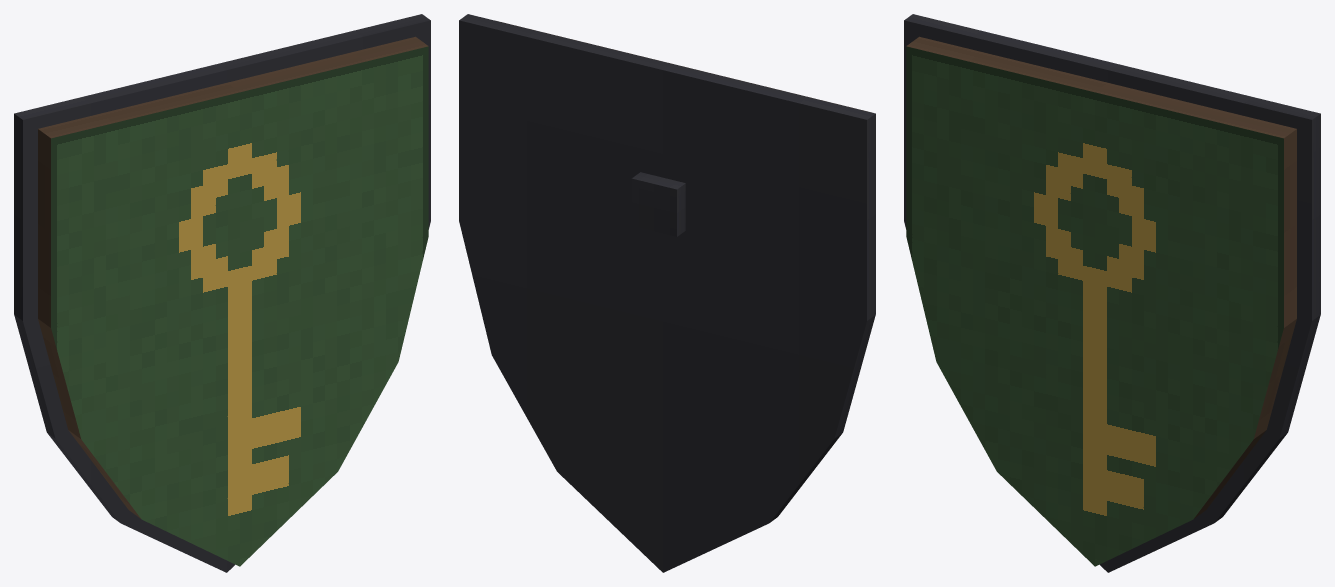
File: crest-shield-c.glb
3 views of the same model, side by side, from view 1: azimuth 30°, elevation 25°; view 2: azimuth 150°, elevation 25°; view 3: azimuth 330°, elevation 25° (orthographic).
Parts seen in each view (by area): view 1: crest-shield-c.001; view 2: crest-shield-c.001; view 3: crest-shield-c.001.
Part boxes in pixels (box(x1,y1,x2,y2)): crest-shield-c.001: box(14, 14, 430, 572); crest-shield-c.001: box(459, 14, 875, 572); crest-shield-c.001: box(904, 14, 1320, 572).
Bounding box in the file's own units: 0.54 × 0.636 × 0.07.
Materials: 1 (1 with a texture image).
